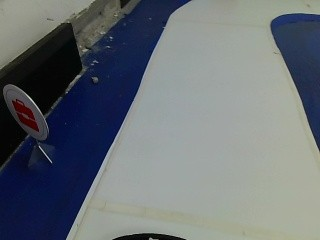company: (1, 83, 45, 141)
